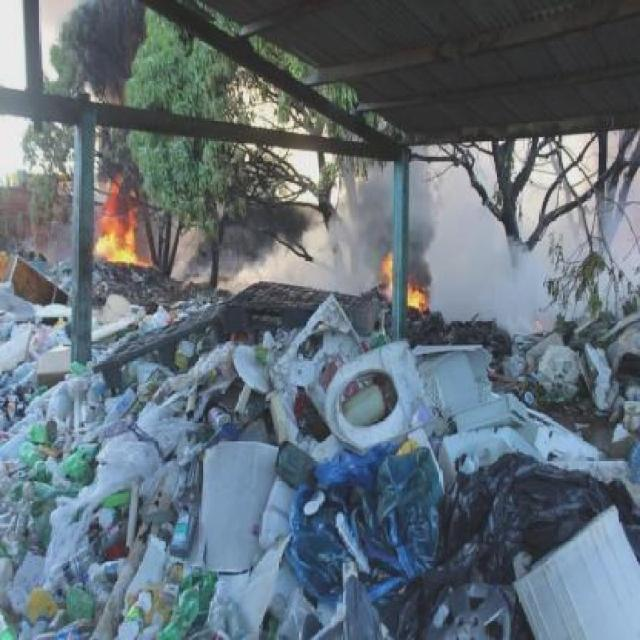Fire: (83, 183, 169, 279), (377, 242, 434, 308)
Smoke: (434, 198, 560, 322)
